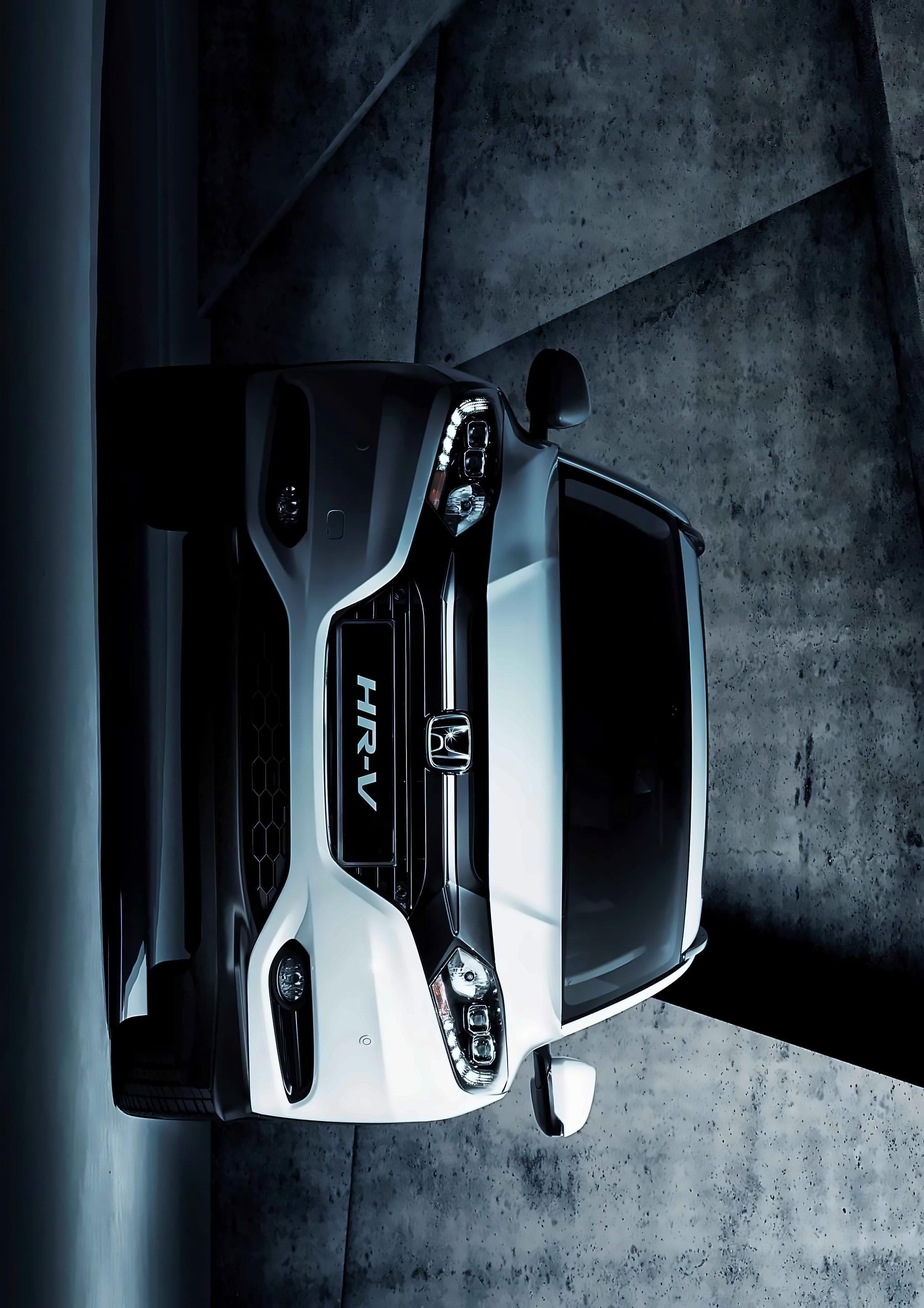Car hood: (485, 396, 574, 1084)
Front bumper: (171, 346, 454, 1137)
Headlight - -L-: (419, 931, 518, 1104)
Headlight - -R-: (420, 370, 508, 552)
Side mirror - -L-: (521, 1030, 601, 1141)
Side mirror - -R-: (519, 340, 597, 453)
